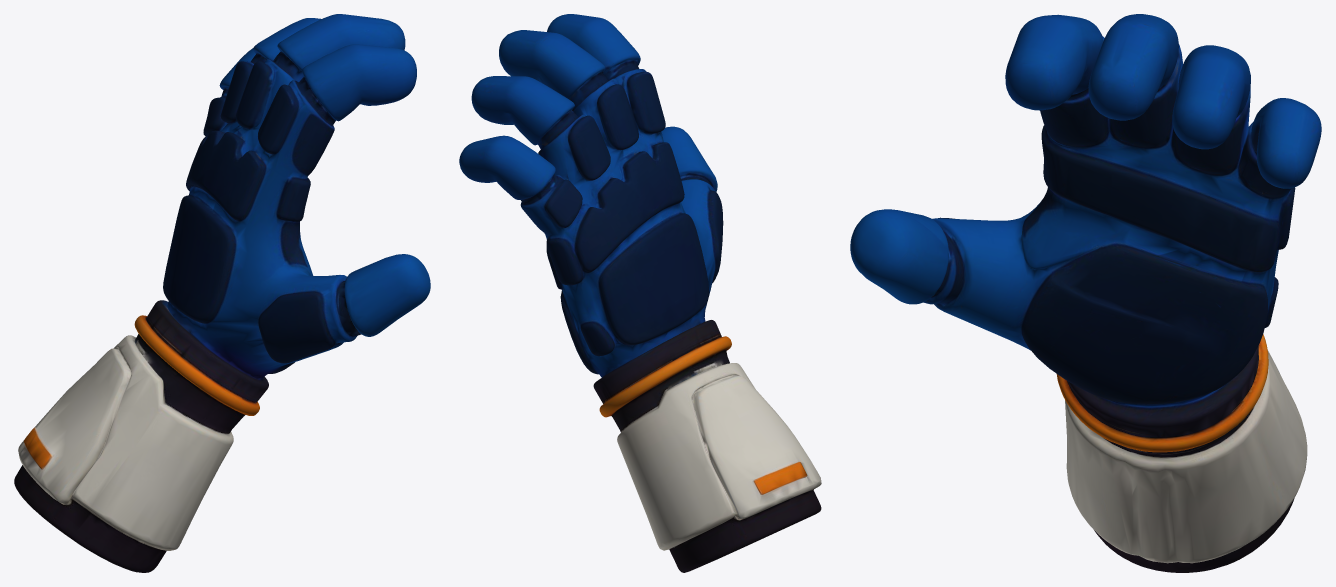
File: hand-left-support.glb
3 views of the same model, side by side, from view 1: azimuth 30°, elevation 25°; view 2: azimuth 150°, elevation 25°; view 3: azimuth 270°, elevation 25° (orthographic). The views are drawn at different scales.
Visible parts, largest first — view 1: material; view 2: material; view 3: material.
Part boxes in pixels (<box>): material: <box>14,14,430,572</box>; material: <box>459,14,821,572</box>; material: <box>850,14,1321,572</box>.
Size of the model in its own units: 0.7368 by 1.02 by 0.656.
1 material, 1 textured.
